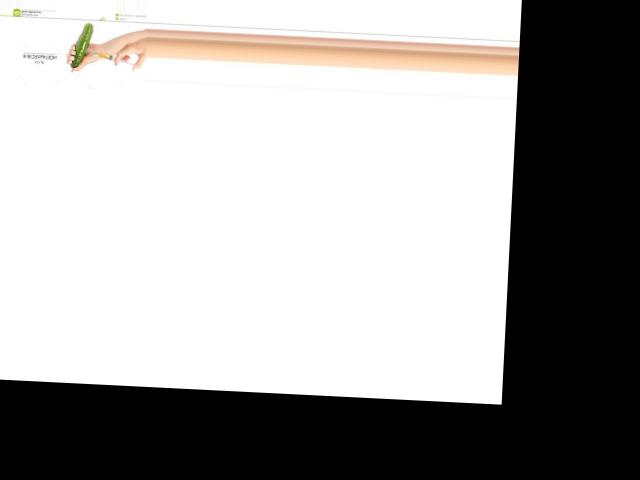cucumber: (70, 21, 94, 68)
